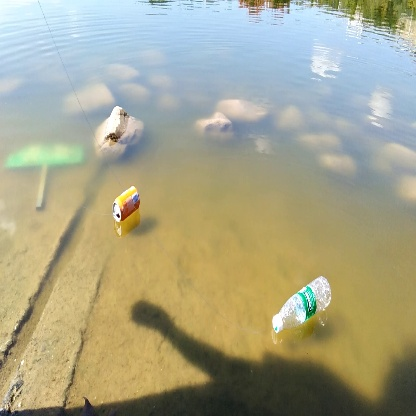bottle: (268, 272, 335, 341), (107, 184, 155, 230)
